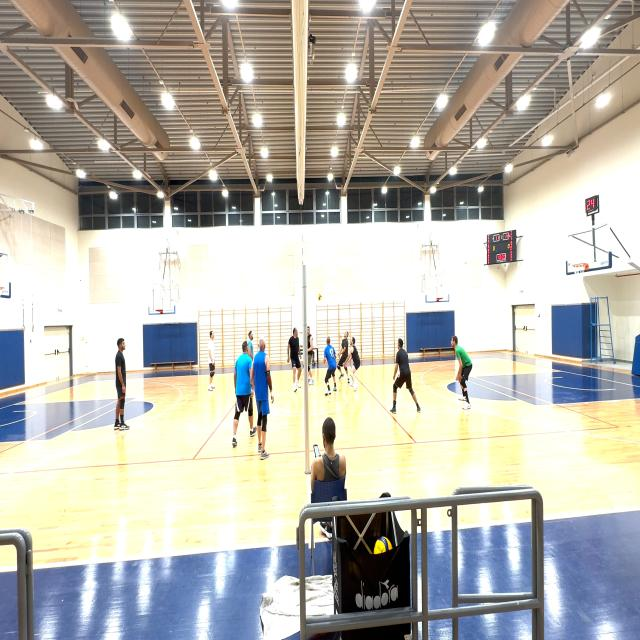volleyball: (373, 536, 393, 555), (318, 294, 322, 300)
